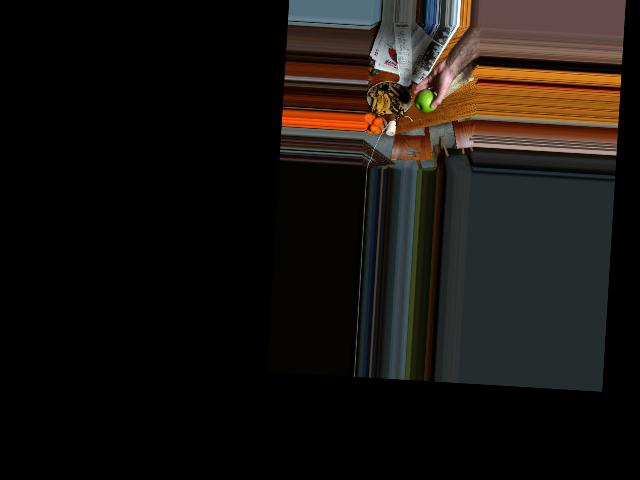apple: (414, 87, 439, 113)
